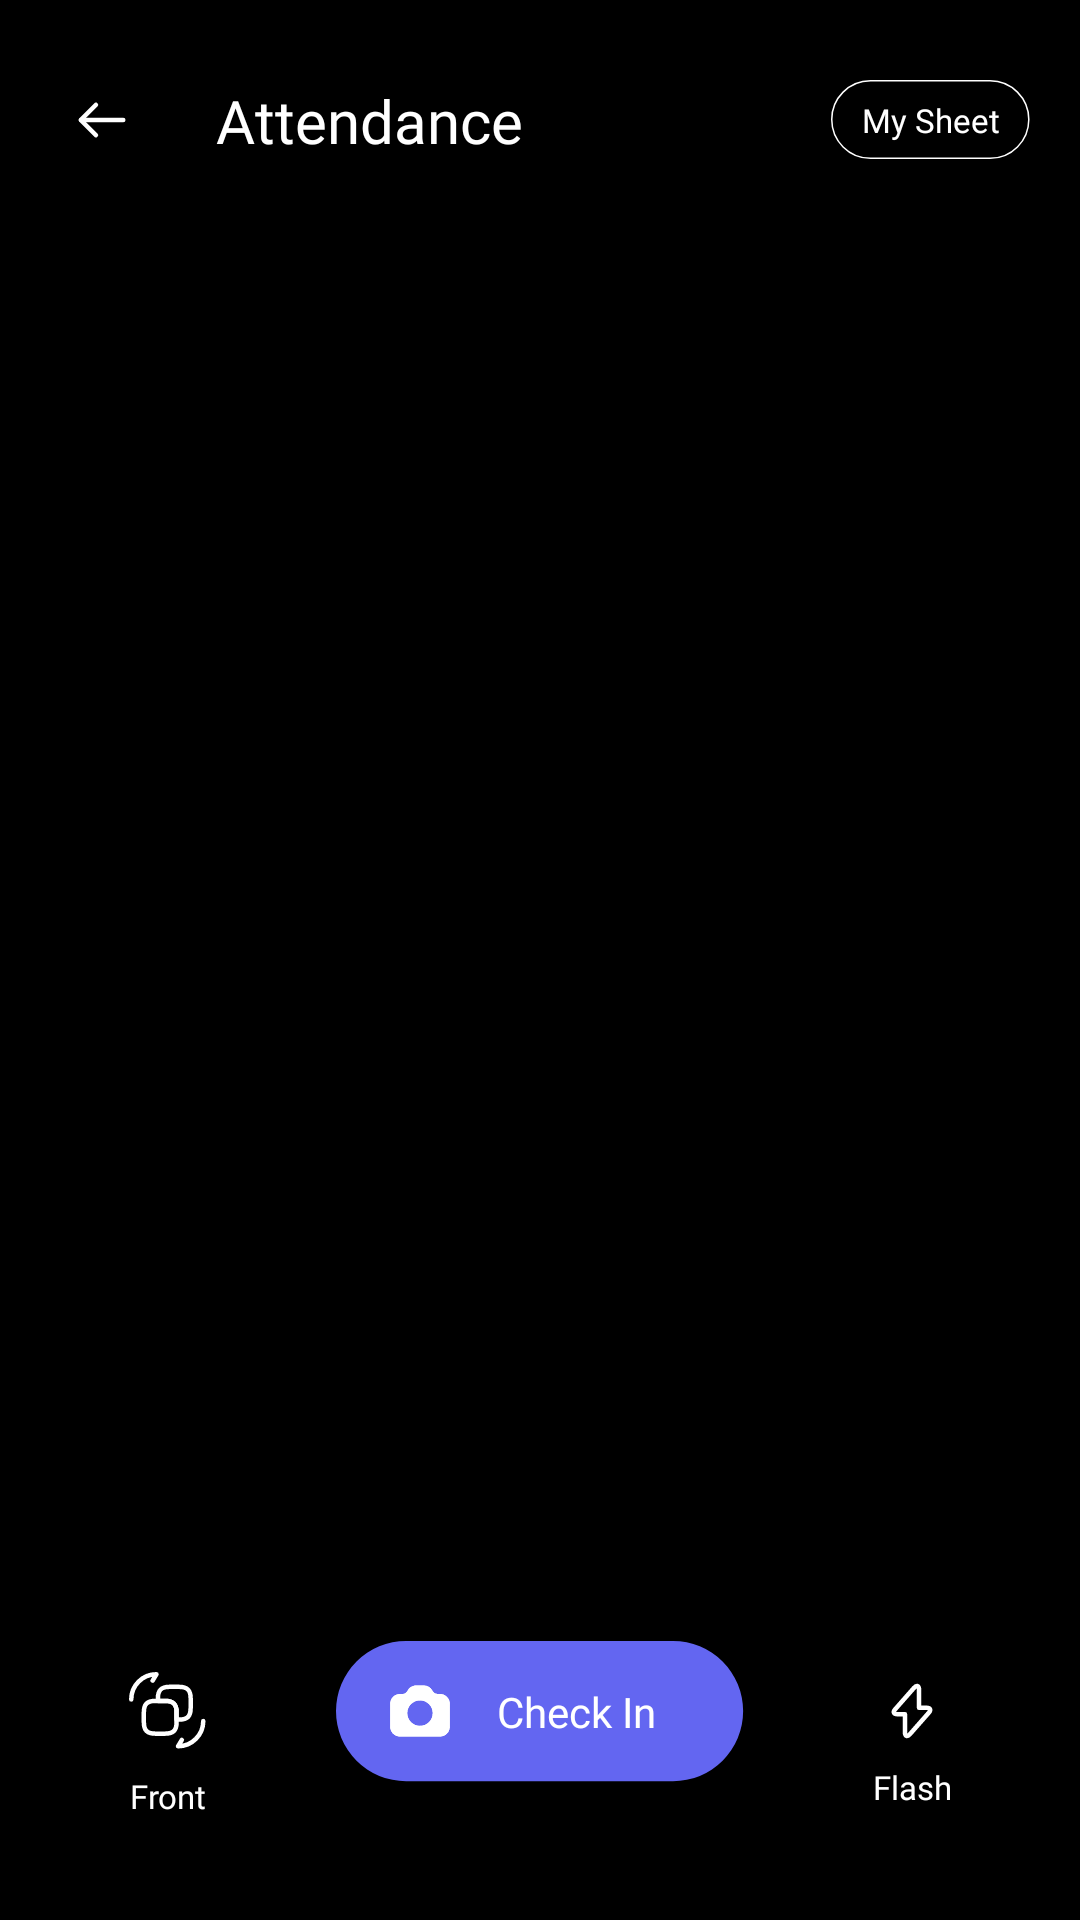

Locate icon controls on the screen. Image size 1080*1920, boxes as {"left": x1, "top": y1, "right": x2, "bottom": y2}.
recovery convert: {"left": 129, "top": 1672, "right": 206, "bottom": 1749}
